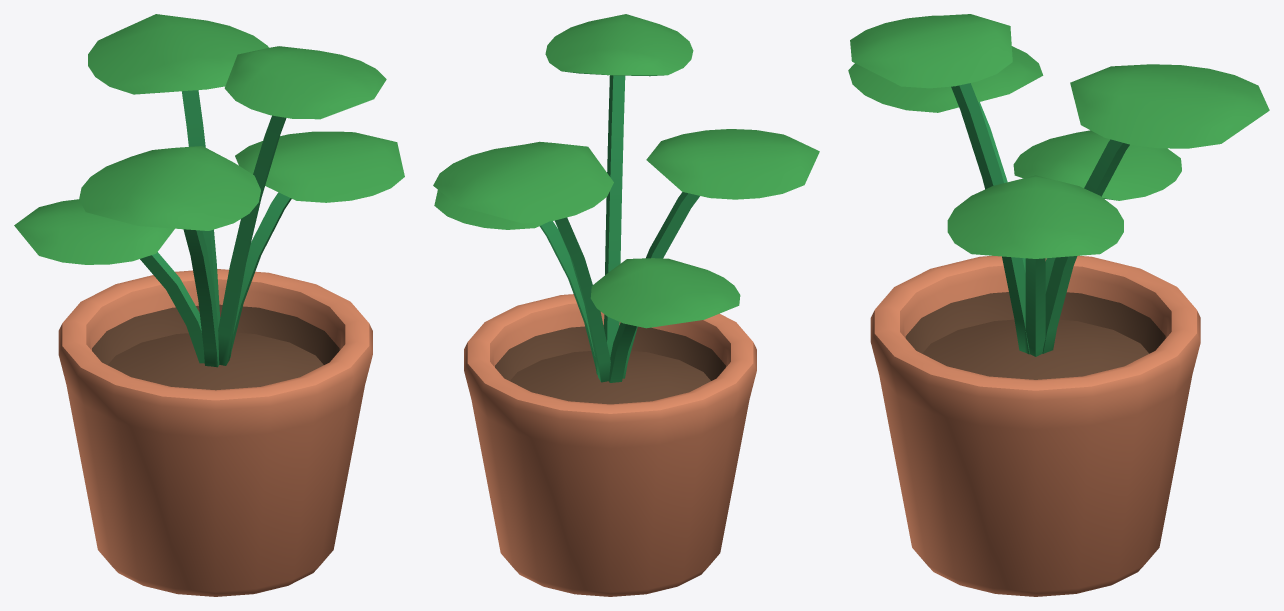
Rendered from planta_mini_pileia.glb.
3 views of the same model, side by side, from view 1: azimuth 30°, elevation 25°; view 2: azimuth 150°, elevation 25°; view 3: azimuth 270°, elevation 25° (orthographic). The views are drawn at different scales.
Visible parts, largest first — view 1: planta_mini_pileia; view 2: planta_mini_pileia; view 3: planta_mini_pileia.
Part boxes in pixels (box(x1,y1,x2,y2)): planta_mini_pileia: box(14, 14, 404, 596); planta_mini_pileia: box(433, 14, 819, 596); planta_mini_pileia: box(848, 14, 1269, 596).
Bounding box in the file's own units: 0.1065 × 0.1481 × 0.1057.
1 material, 1 textured.
